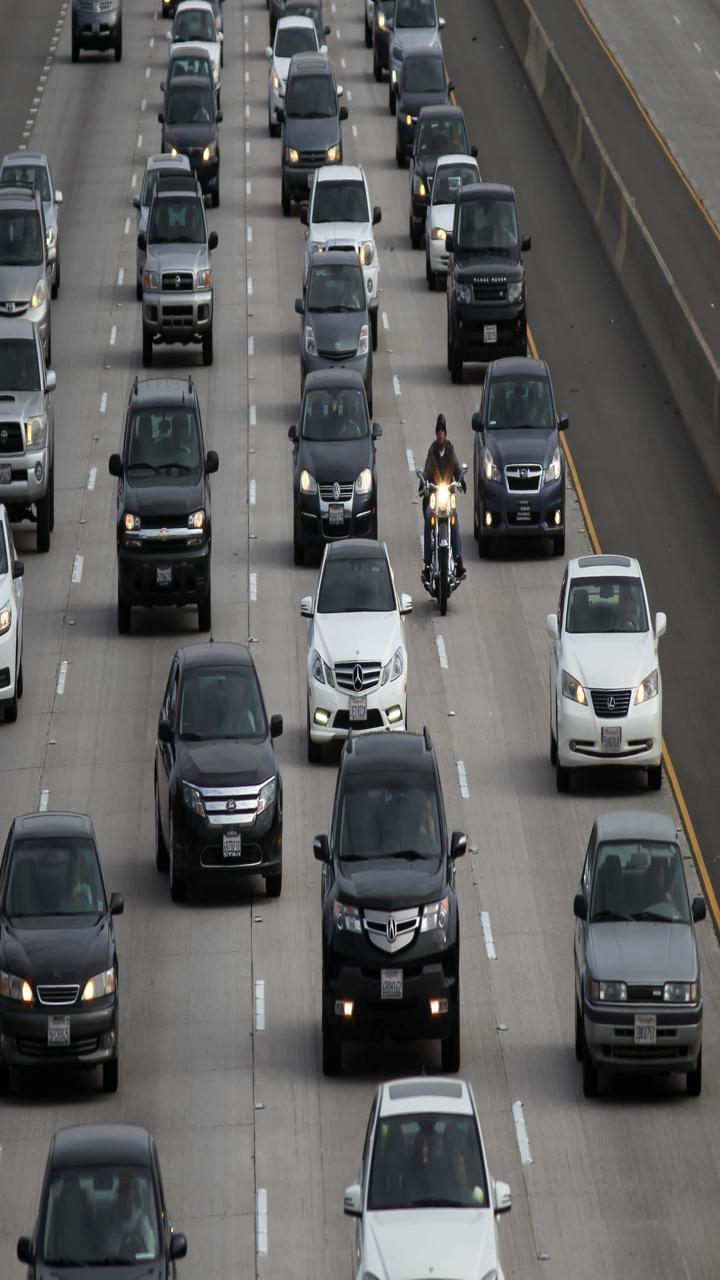motorcycle: (422, 407, 482, 612)
vehicle: (307, 723, 478, 1076), (92, 365, 243, 639), (527, 549, 692, 795), (276, 525, 441, 771), (146, 631, 288, 916), (564, 819, 706, 1104), (3, 817, 128, 1089), (340, 1079, 507, 1280), (17, 1113, 188, 1277), (277, 349, 395, 572), (476, 348, 581, 553), (437, 184, 542, 389), (291, 238, 396, 443), (119, 187, 224, 392), (1, 328, 66, 557), (1, 180, 62, 385), (281, 49, 348, 203), (308, 144, 375, 298), (166, 61, 226, 205)
